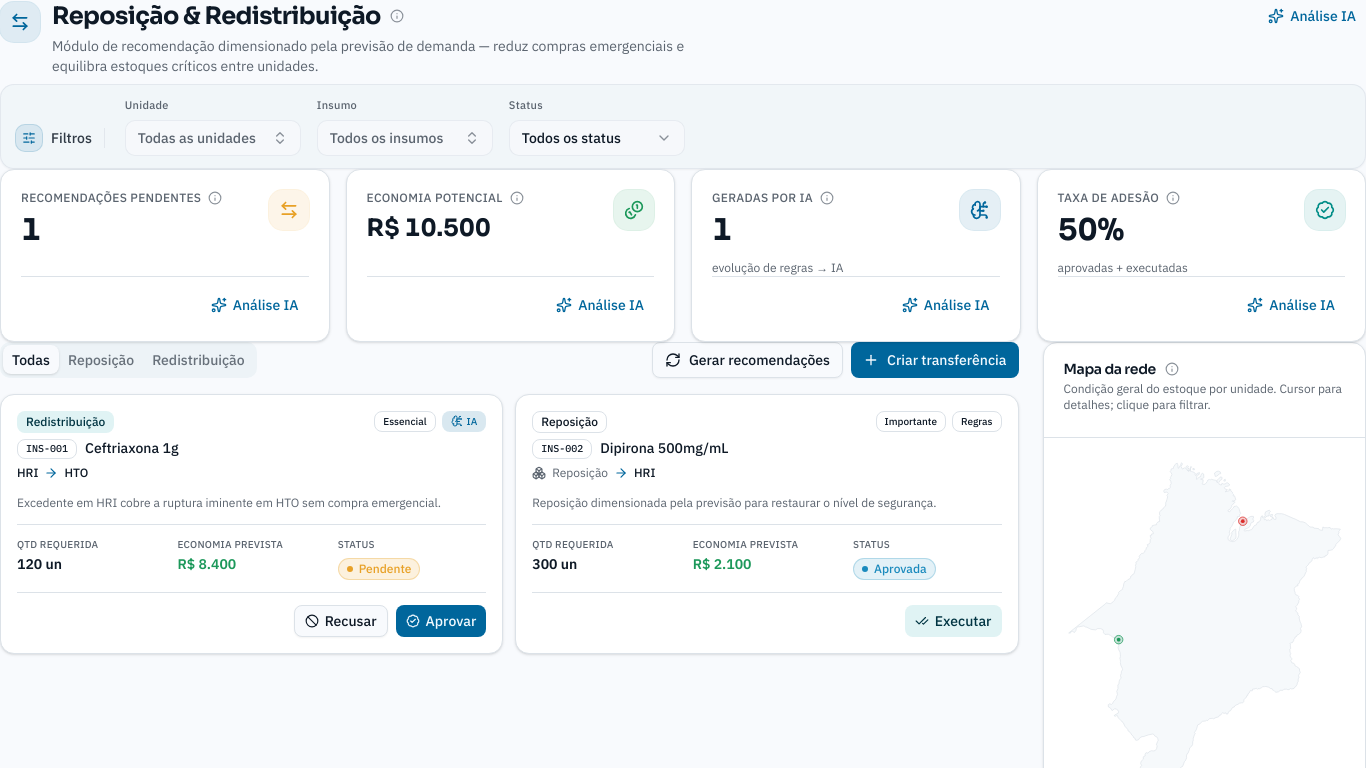
RecomendacoesPage › 'Criar transferência' abre o modal de nova transferência
Click the button "Criar transferência".
click(935, 360)  # box [851,342,1018,378]
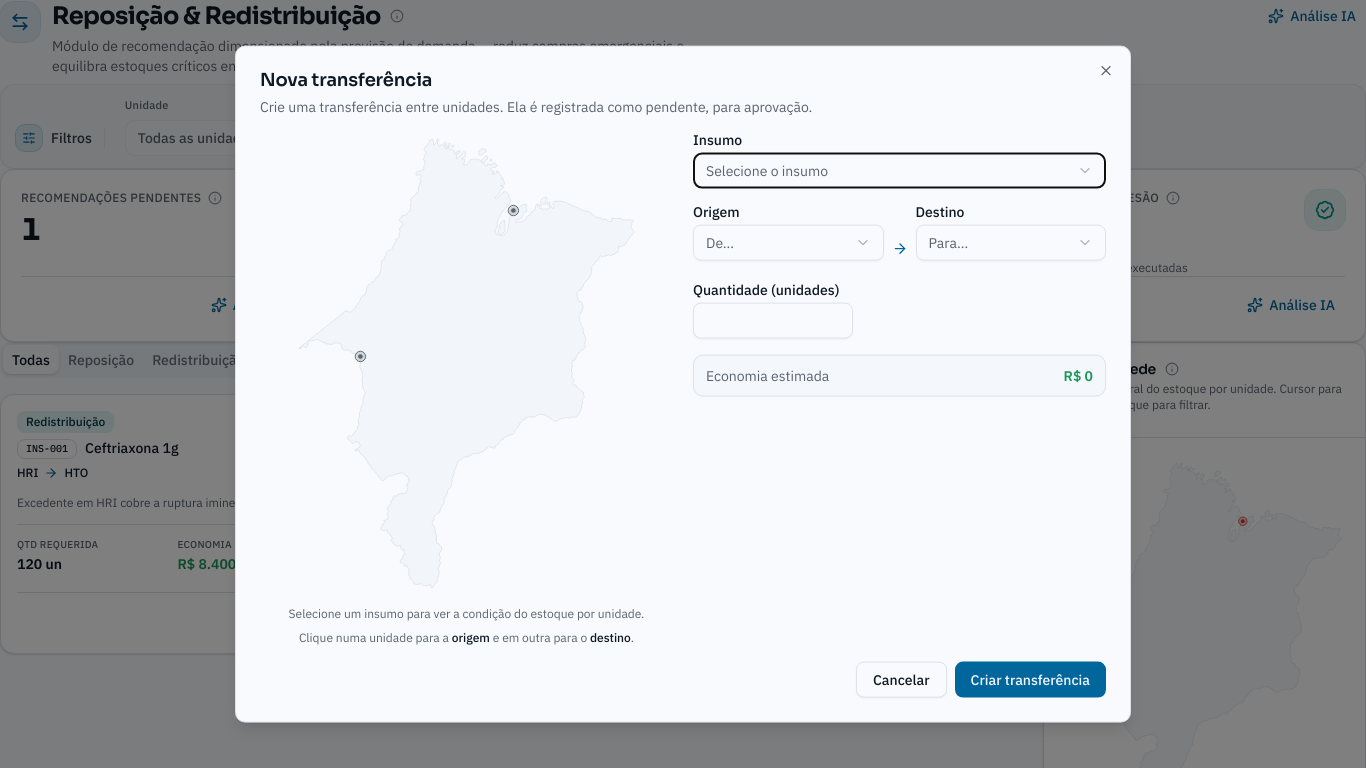
Expected: the heading "Nova transferência" is shown, [260,69,432,91]
